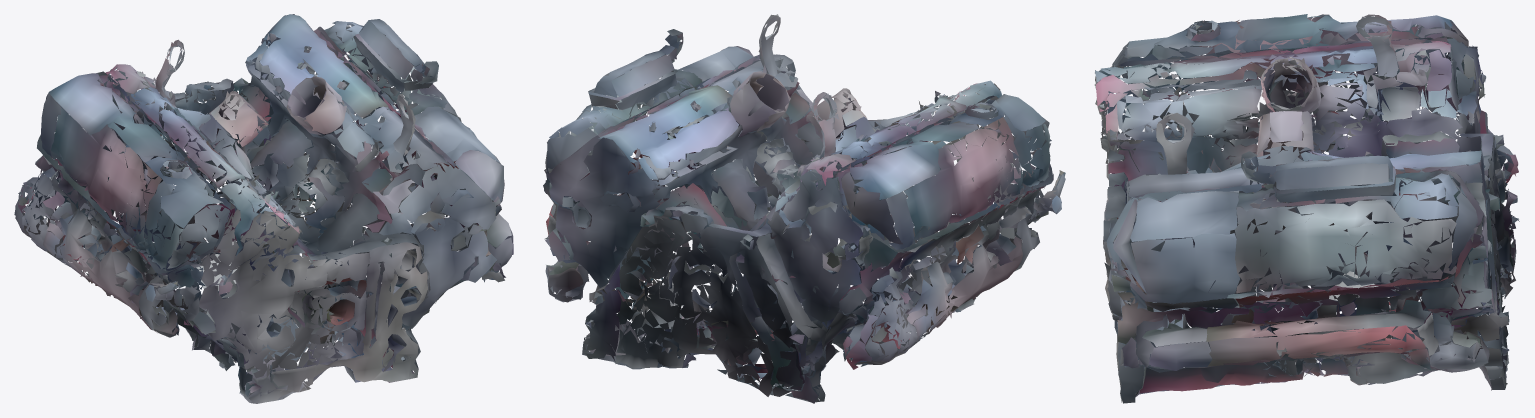
File: eng-d-v8-66.glb
3 renders of one model, left to right at view 1: azimuth 30°, elevation 25°; view 2: azimuth 150°, elevation 25°; view 3: azimuth 270°, elevation 25°, orthographic. The views are drawn at different scales.
Visible parts, largest first — view 1: p0; view 2: p0; view 3: p0.
Boxes of the visible parts, x1=… form: p0: x1=14, y1=14, x2=513, y2=403; p0: x1=543, y1=14, x2=1065, y2=403; p0: x1=1094, y1=14, x2=1519, y2=403.
Bounding box in the file's own units: 0.761 × 0.5424 × 0.654.
1 material, 1 textured.
